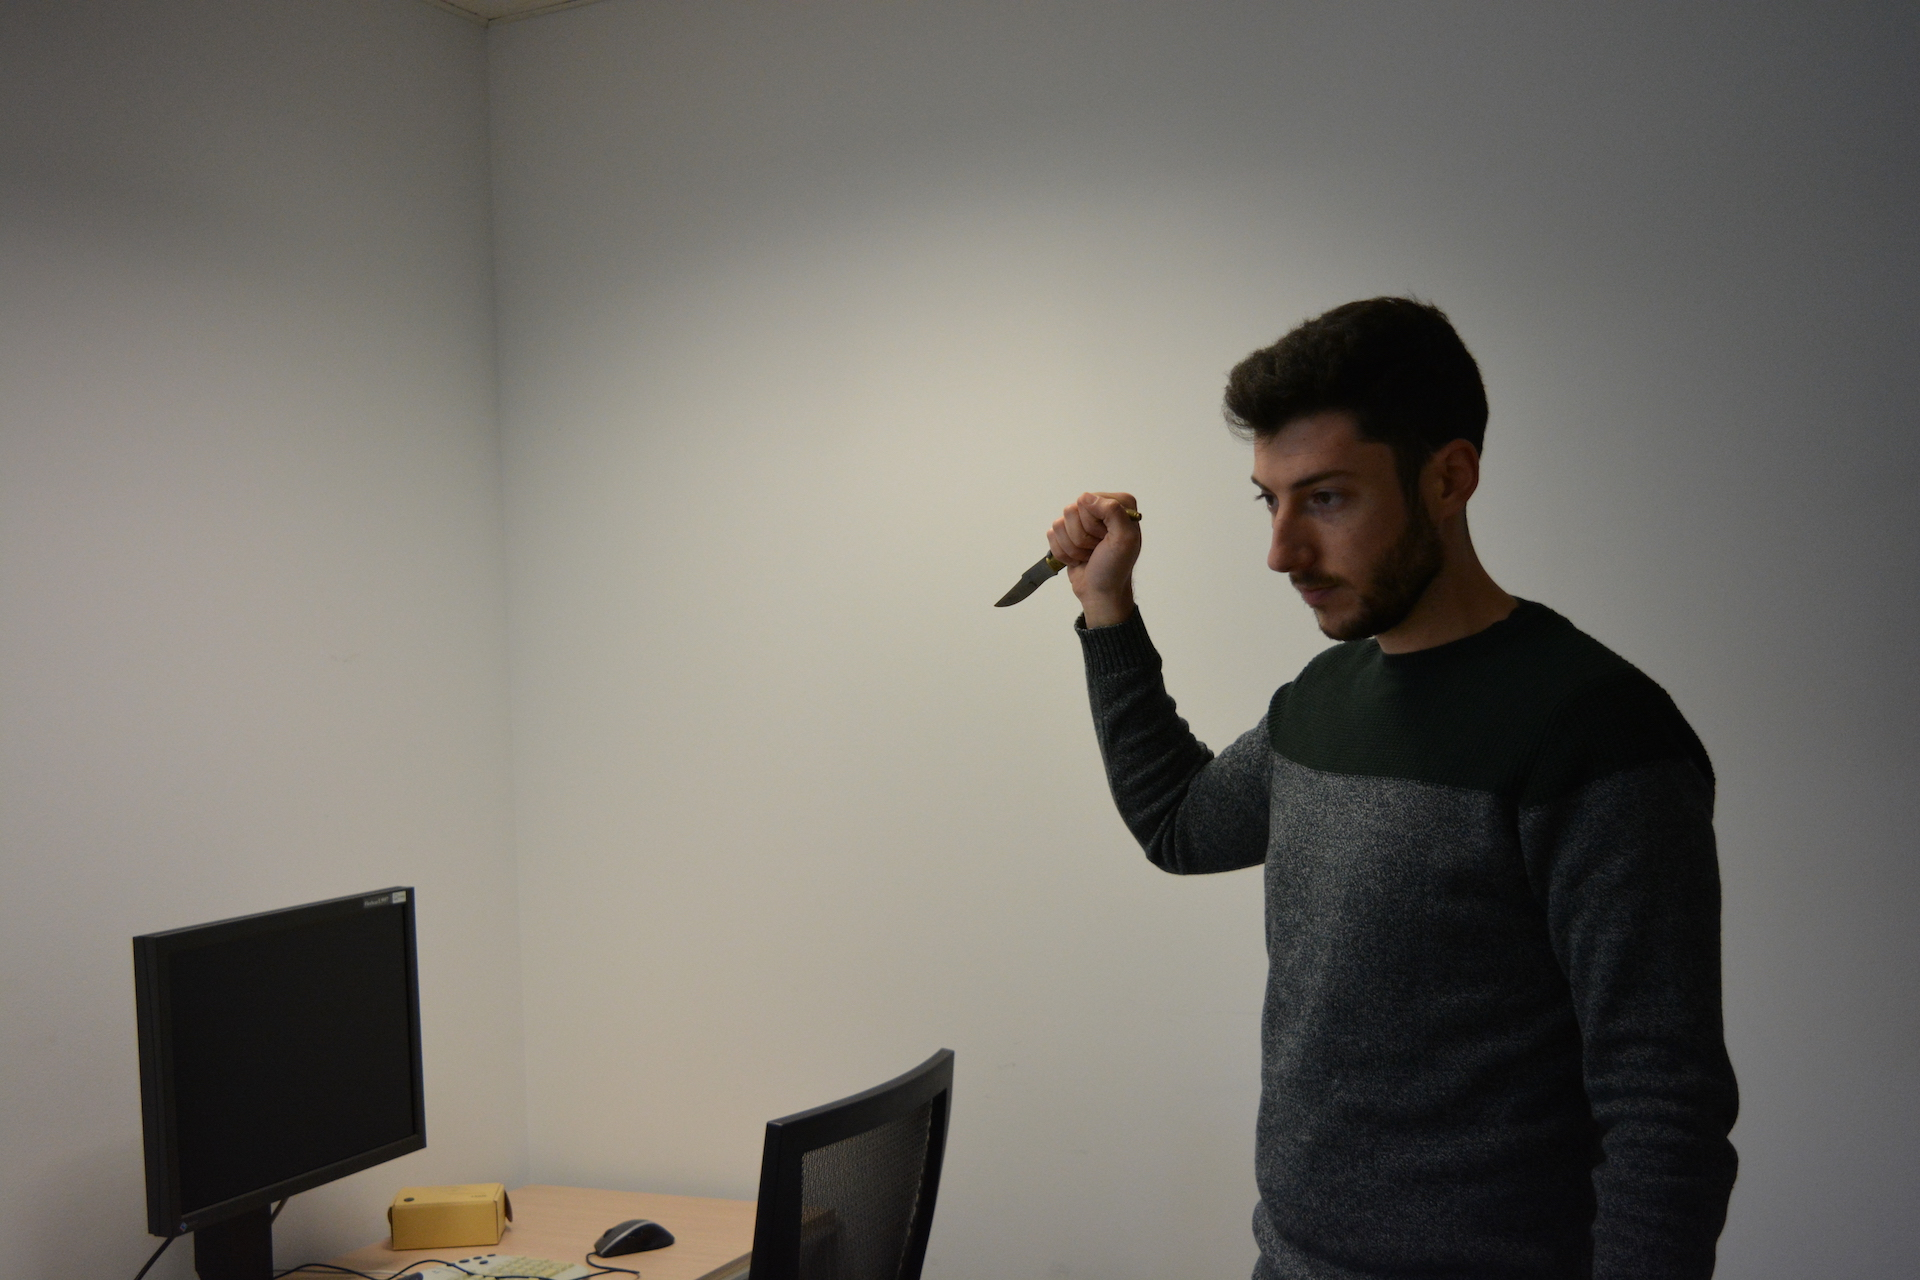knife: (981, 503, 1149, 616)
